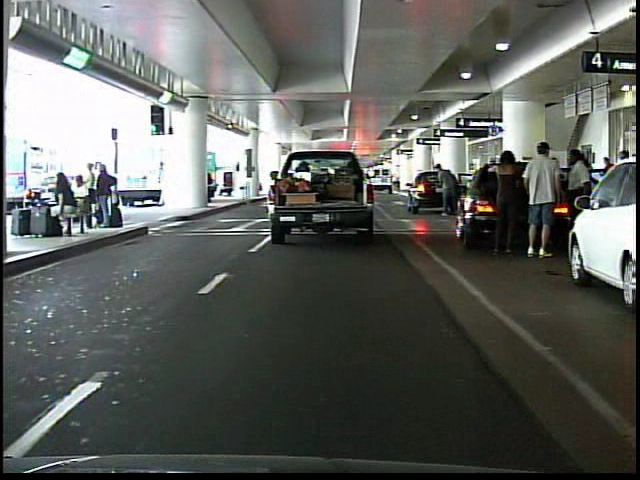person: (483, 138, 524, 262), (522, 138, 564, 259), (562, 142, 602, 264), (433, 158, 459, 223), (155, 161, 170, 206)
